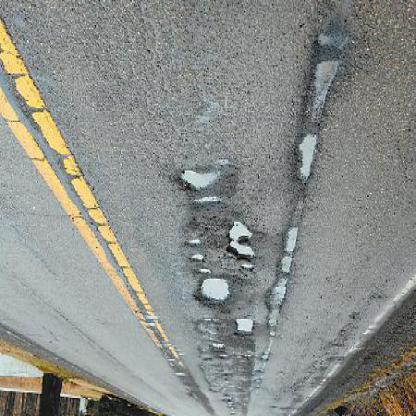pothole: (305, 61, 341, 123), (226, 222, 256, 263), (196, 280, 231, 313), (296, 136, 319, 183), (177, 173, 218, 195), (266, 281, 290, 314), (282, 229, 301, 258), (235, 318, 255, 340), (192, 197, 222, 209), (190, 253, 206, 266), (212, 344, 227, 353), (186, 241, 202, 249), (199, 269, 211, 278)
